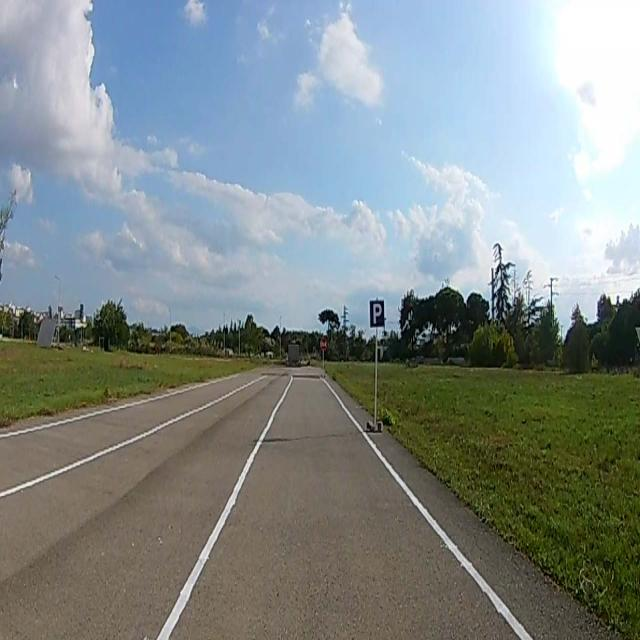park: (370, 302, 384, 326)
